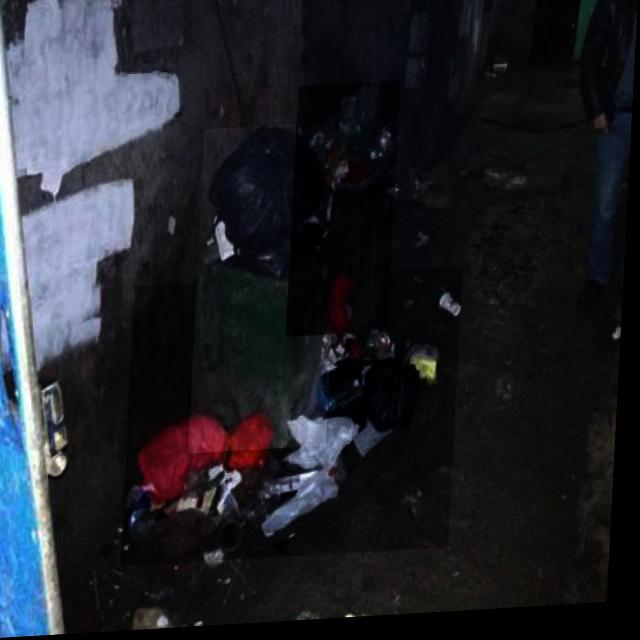garbage: (126, 273, 466, 568)
overflow: (194, 126, 345, 456), (290, 85, 402, 341)
